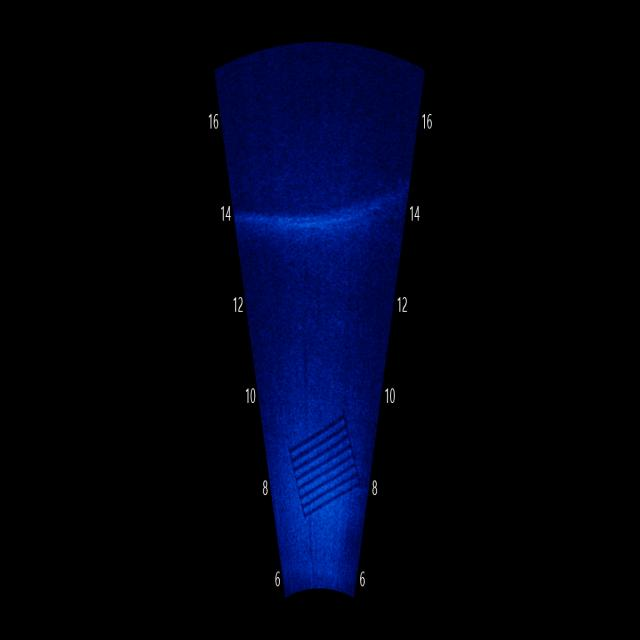square: (283, 405, 367, 526)
